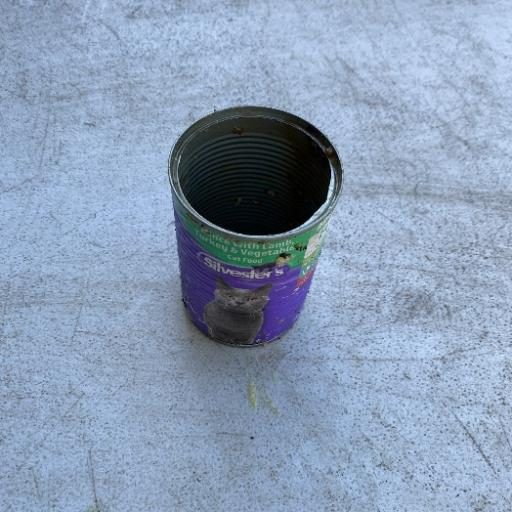Metal: (165, 102, 345, 348)
